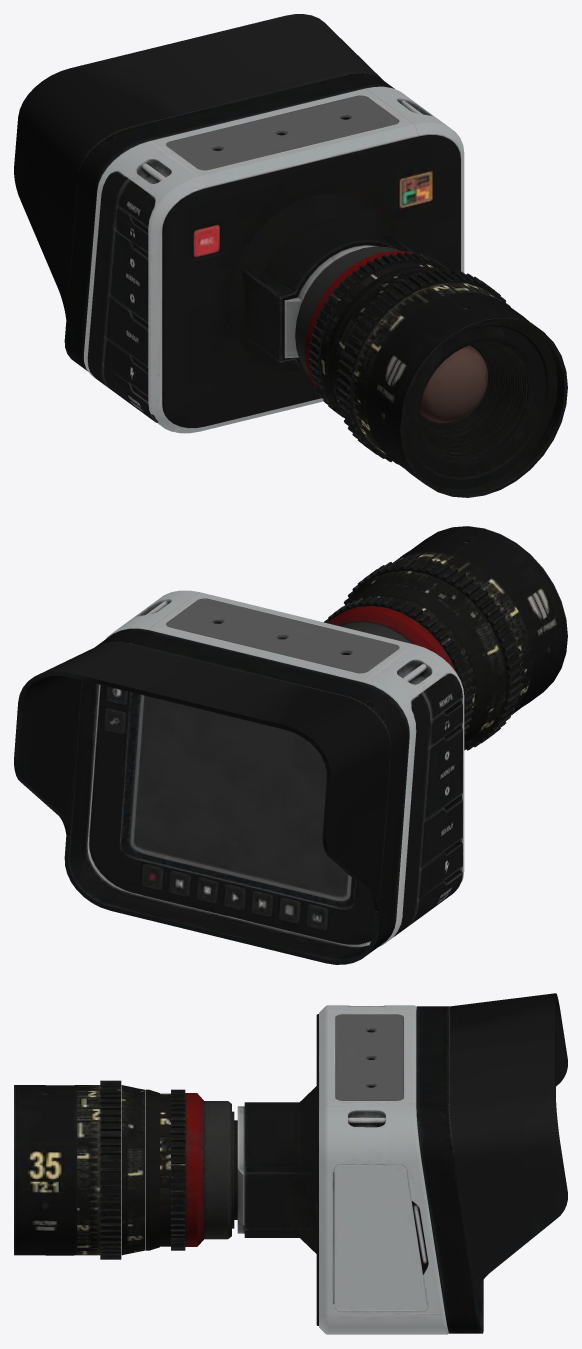
The model's file is camera.glb.
3 renders of one model, top to bottom at view 1: azimuth 30°, elevation 25°; view 2: azimuth 150°, elevation 25°; view 3: azimuth 270°, elevation 25°, orthographic. The views are drawn at different scales.
Parts seen in each view (by area): view 1: Object_6, Object_30, Object_58; view 2: Object_6, Object_58, Object_30; view 3: Object_6, Object_58, Object_30.
Boxes of the visible parts, left/top/right/bottom form: Object_6: left=84, top=86, right=464, bottom=433; Object_30: left=115, top=178, right=567, bottom=497; Object_58: left=14, top=14, right=394, bottom=371; Object_6: left=87, top=590, right=464, bottom=946; Object_58: left=14, top=628, right=409, bottom=964; Object_30: left=324, top=526, right=567, bottom=750; Object_6: left=244, top=1005, right=448, bottom=1334; Object_58: left=416, top=993, right=567, bottom=1333; Object_30: left=14, top=1080, right=244, bottom=1259.
Size of what is drawn, in the model's own units: 0.2437 by 0.2004 by 0.4209.
3 materials, 3 textured.
